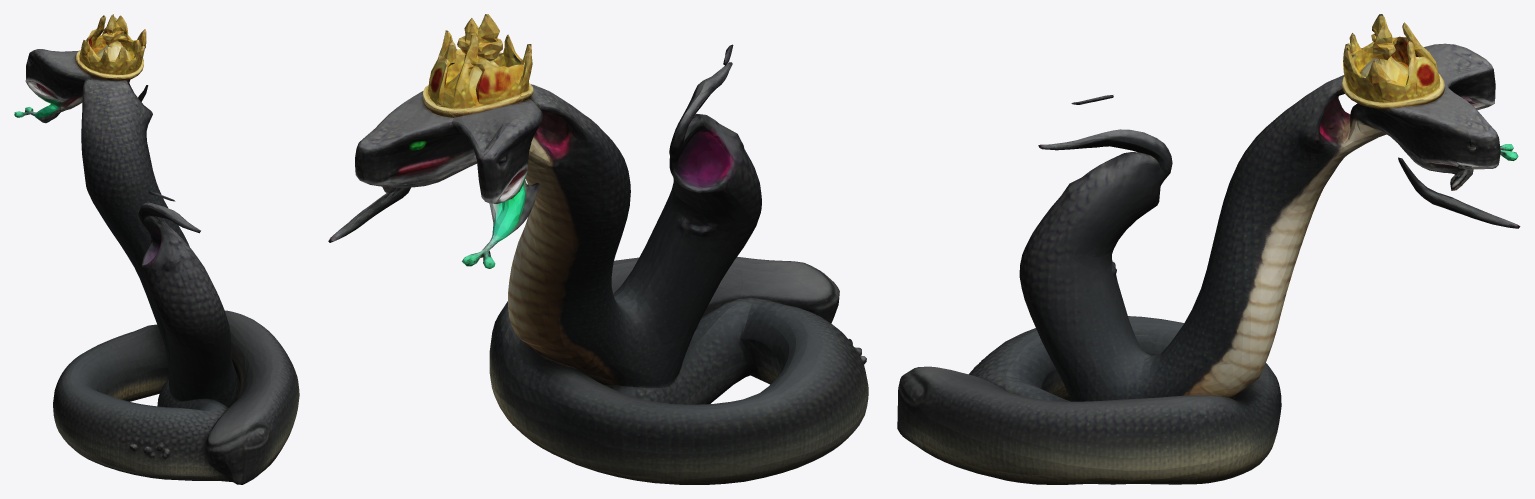
The model's file is SerpentKingBossEnemy.glb.
The picture shows the model from 3 angles, left to right: view 1: azimuth 30°, elevation 25°; view 2: azimuth 150°, elevation 25°; view 3: azimuth 270°, elevation 25°; orthographic projection. The views are drawn at different scales.
Bounding box in the file's own units: 54.26 × 84.07 × 99.69.
1 material, 1 textured.
